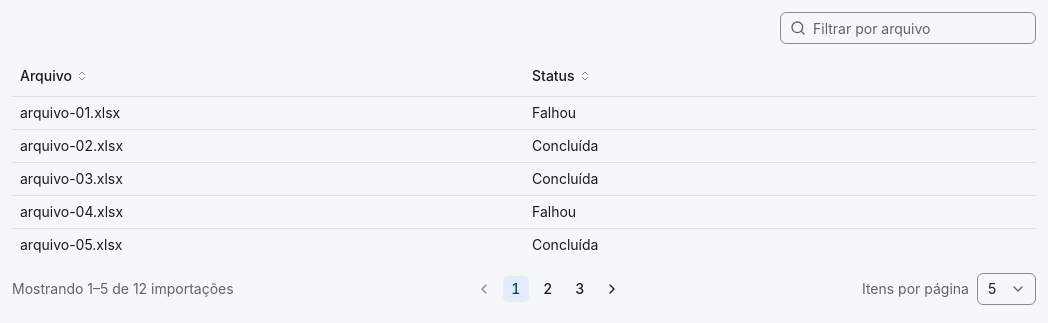
Test: DataTable — pagination, filter and URL state › moves between pages with next, previous and the numbered buttons
Click the button named "Próxima página".
click(612, 288)  # box [598, 274, 626, 302]
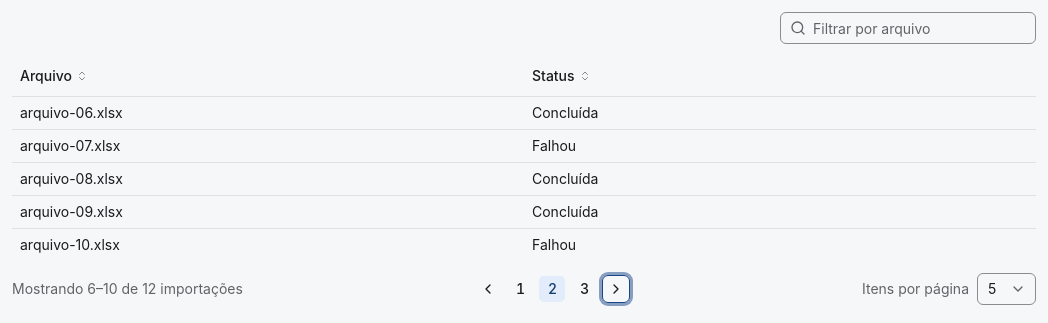
Now the text "arquivo-06.xlsx" is shown, box [20, 104, 123, 120]
Click the button named "Página 3".
click(584, 288)  # box [570, 274, 598, 302]
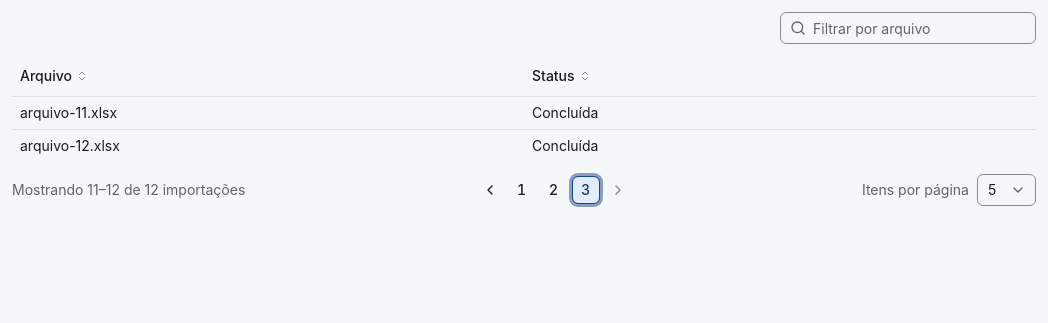
Now the text "Mostrando 11–12 de 12 importações" is shown, box [12, 180, 245, 200]
Click the button named "Página anterior".
click(490, 190)  # box [476, 176, 504, 204]
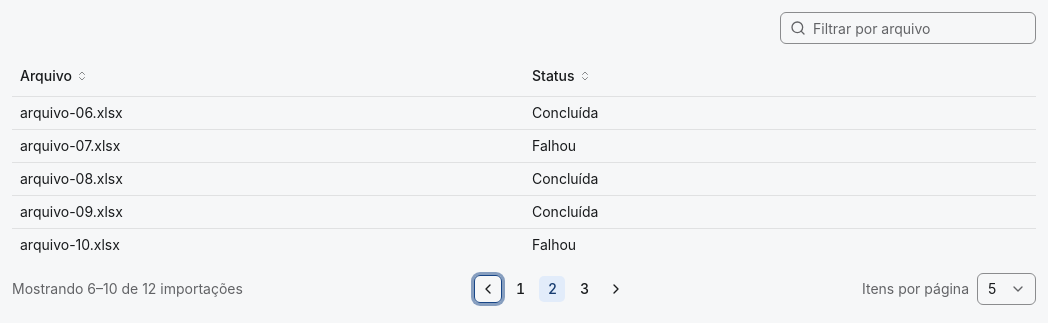
Now the text "arquivo-06.xlsx" is shown, box [20, 104, 123, 120]
